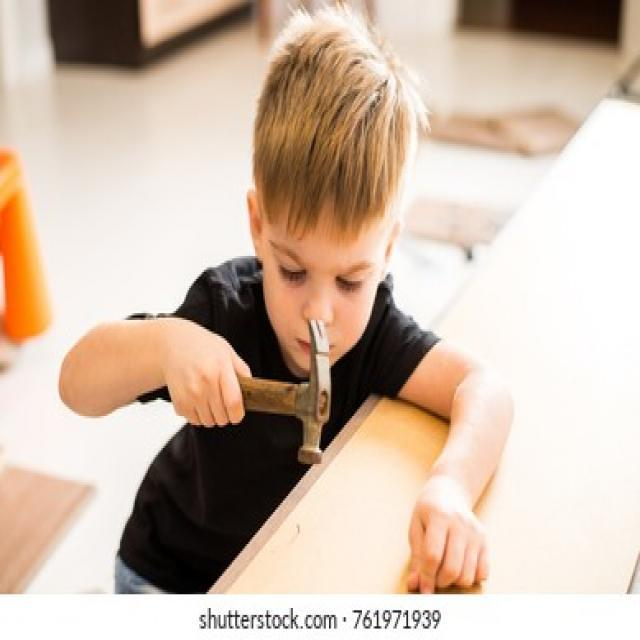hammer: (226, 311, 338, 478)
